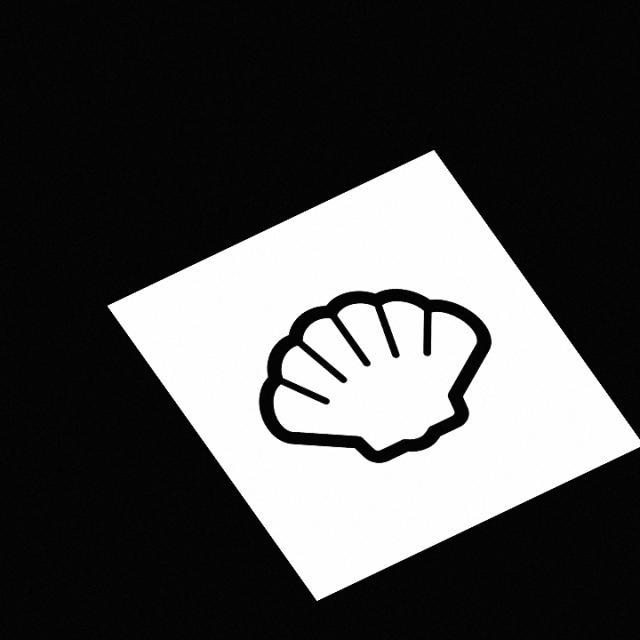shell: (252, 286, 497, 470)
